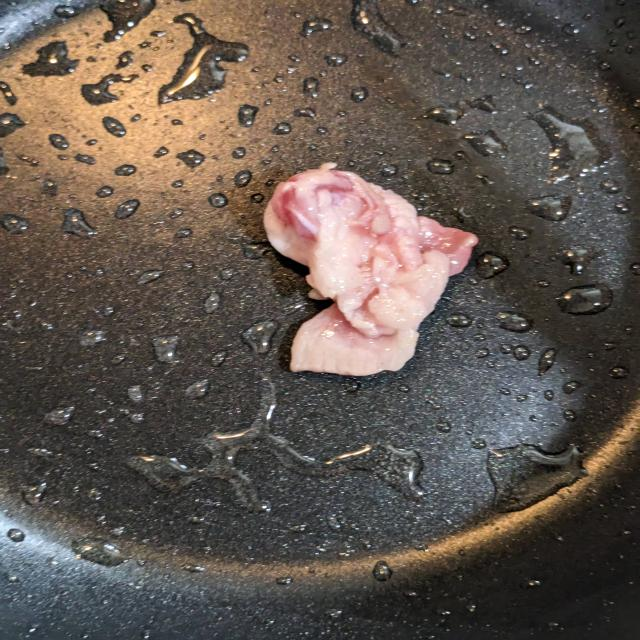NG undercooked pork,: (234, 152, 488, 390)
